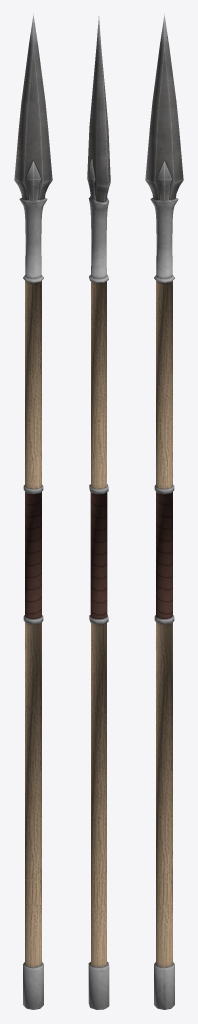
File: SM_Spear_05.fbx
The picture shows the model from 3 angles, left to right: view 1: azimuth 90°, elevation 25°; view 2: azimuth 210°, elevation 25°; view 3: azimuth 270°, elevation 25°; orthographic projection.
Parts seen in each view (by area): view 1: SM_Spear_05_LOD0; view 2: SM_Spear_05_LOD0; view 3: SM_Spear_05_LOD0.
Part boxes in pixels (<box>): SM_Spear_05_LOD0: <box>14,14,52,1009</box>; SM_Spear_05_LOD0: <box>87,16,110,1009</box>; SM_Spear_05_LOD0: <box>145,14,183,1009</box>.
Bounding box in the file's own units: 4.22 × 7.1 × 203.
Materials: 1 (1 with a texture image).
